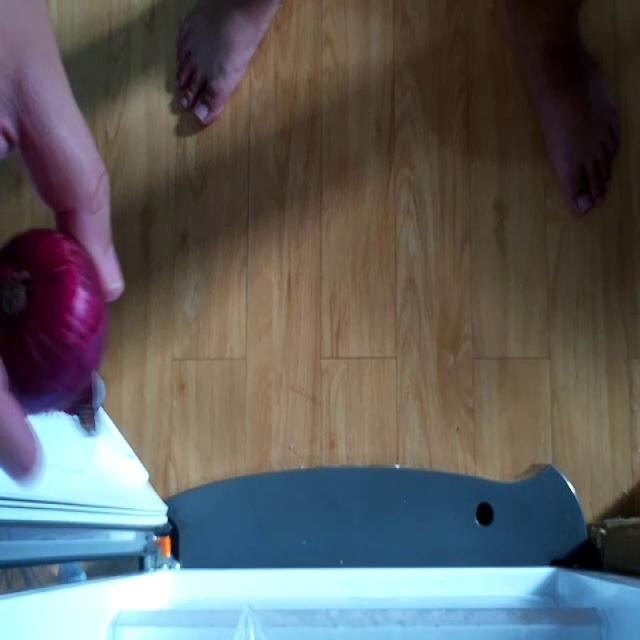onion: (0, 225, 107, 432)
